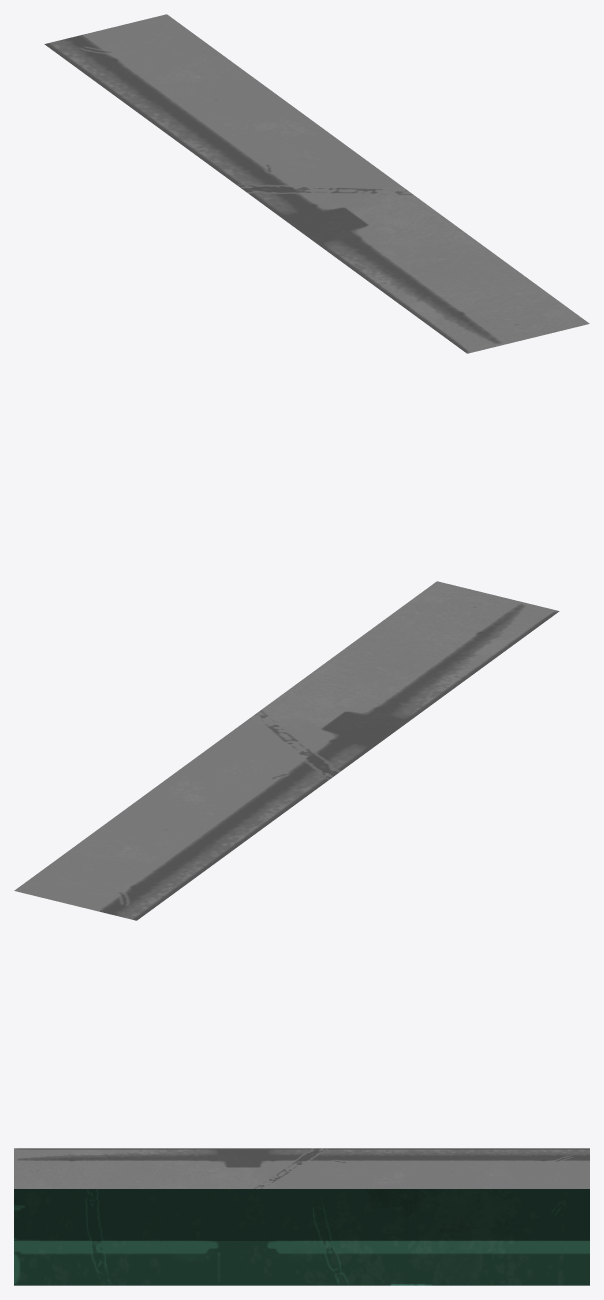
File: 5 kabe2.fbx
3 renders of one model, top to bottom at view 1: azimuth 30°, elevation 25°; view 2: azimuth 150°, elevation 25°; view 3: azimuth 270°, elevation 25°, orthographic. The views are drawn at different scales.
Visible parts, largest first — view 1: polySurface170; view 2: polySurface170; view 3: polySurface169, polySurface170.
Boxes of the visible parts, x1,y1,x2,y2 form: polySurface170: (44, 14, 589, 353); polySurface170: (14, 581, 559, 920); polySurface169: (14, 1189, 589, 1285); polySurface170: (14, 1148, 589, 1188).
Size of the model in its own units: 14.02 by 17.52 by 67.17.
Materials: 1 (1 with a texture image).
